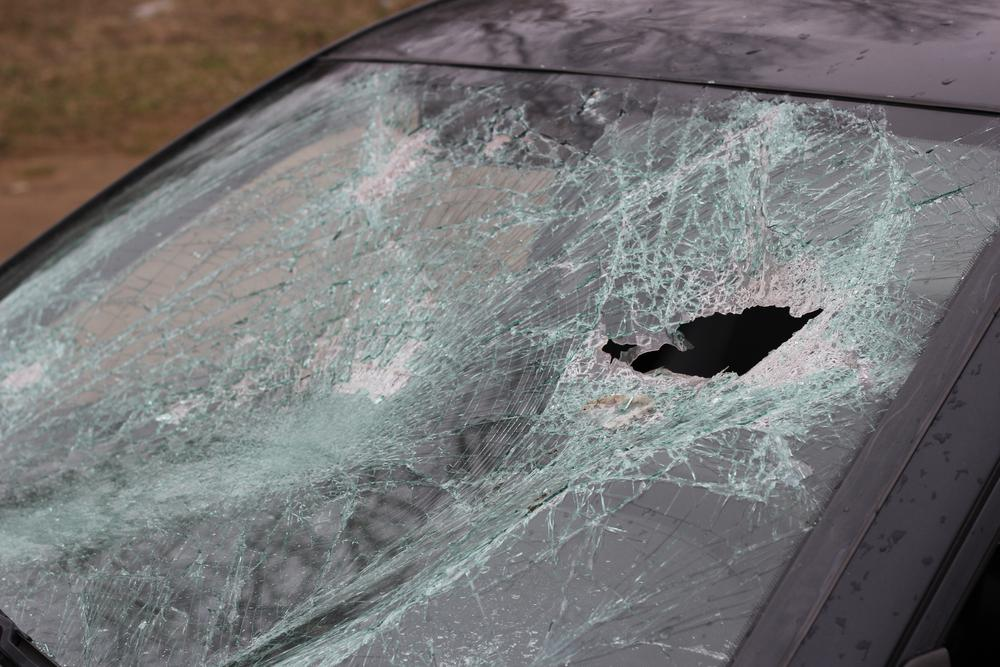glass shatter: (0, 58, 1000, 667)
